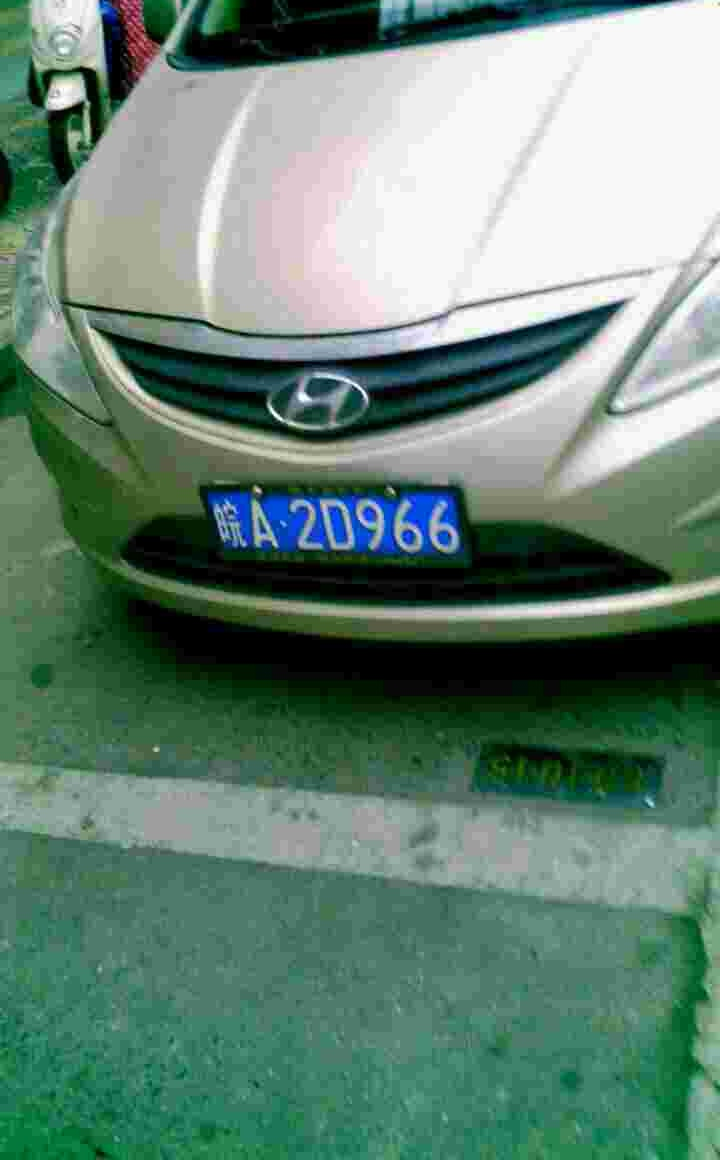car: (211, 487, 465, 561)
